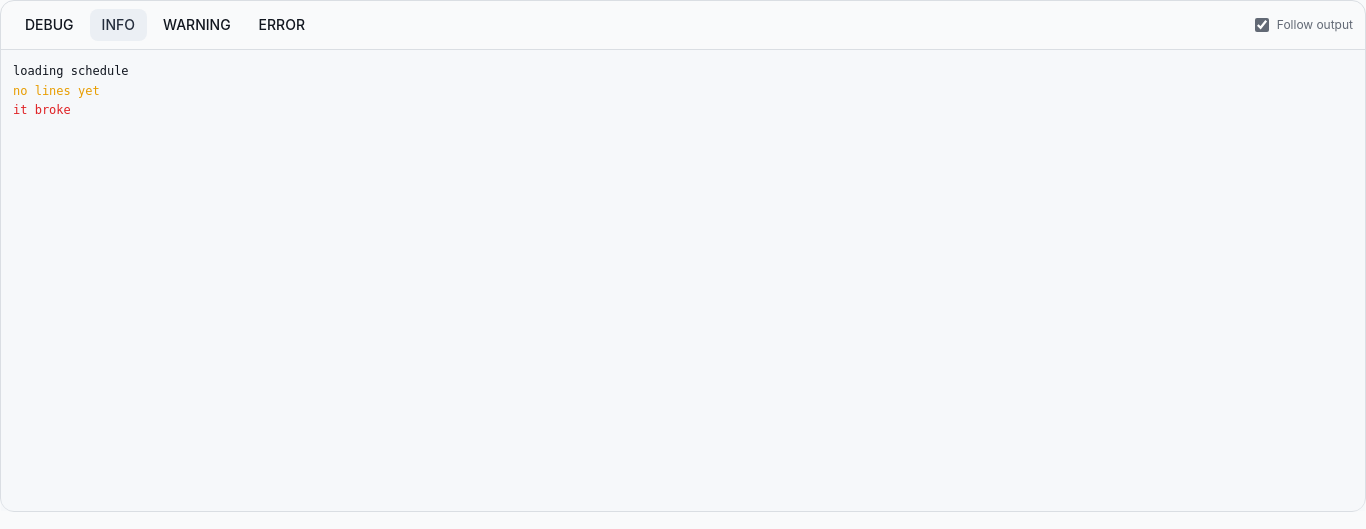
it: LogConsole › hides debug output until the filter asks for it
Expected: the text "noisy detail" is not shown
Expected: the text "loading schedule" is shown, top-left (13, 64), bottom-right (129, 78)
Click the button "DEBUG".
click(49, 25)  # box top-left (13, 9), bottom-right (86, 41)
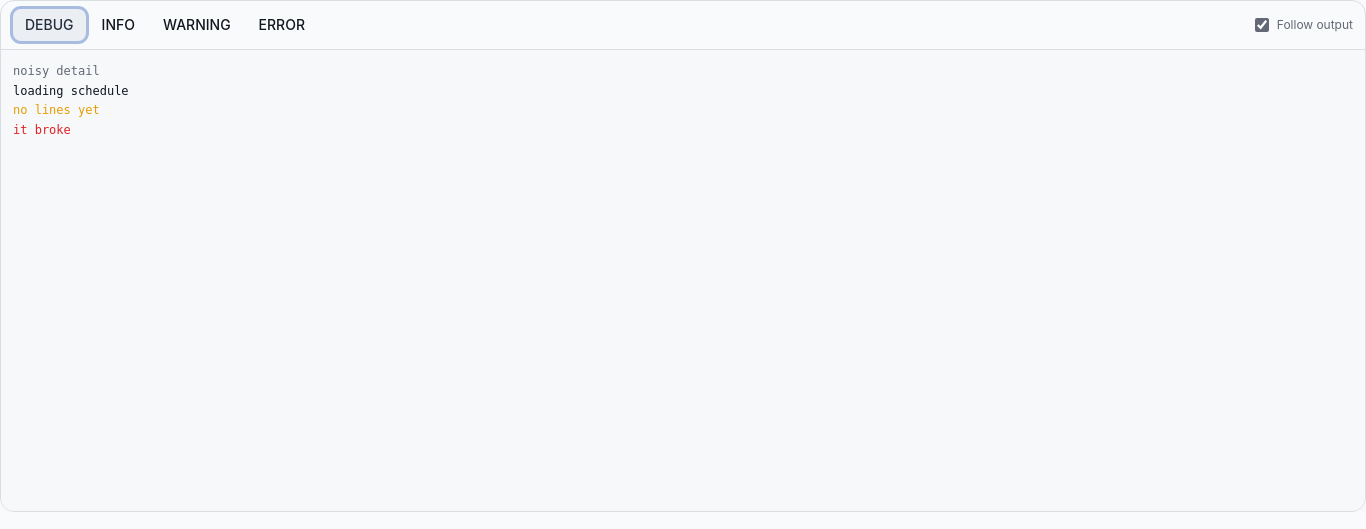
Expected: the text "noisy detail" is shown, top-left (13, 64), bottom-right (100, 78)
